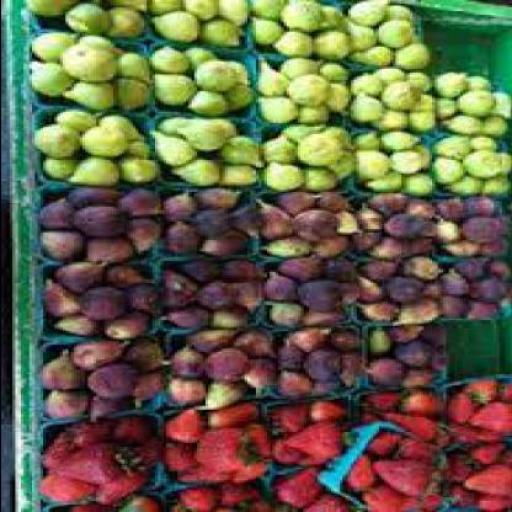biodegradable: (59, 443, 143, 483), (196, 424, 272, 468), (376, 454, 440, 494), (61, 37, 117, 82), (282, 418, 344, 456), (237, 424, 277, 481), (73, 204, 134, 238), (152, 124, 198, 166), (90, 361, 143, 397), (98, 466, 154, 500), (42, 468, 98, 502), (198, 57, 252, 91), (55, 256, 112, 288), (42, 346, 87, 386), (67, 154, 126, 184), (280, 465, 322, 507), (28, 58, 75, 95), (184, 118, 238, 150), (64, 76, 118, 108), (466, 459, 511, 497), (380, 410, 442, 436), (84, 122, 134, 154), (154, 10, 204, 42), (162, 266, 202, 305), (40, 227, 92, 257), (207, 349, 252, 383), (170, 154, 221, 184), (221, 134, 266, 168), (73, 339, 129, 366), (260, 195, 296, 237), (297, 278, 344, 310), (37, 122, 84, 154), (101, 4, 148, 36), (34, 30, 80, 62), (86, 235, 140, 262), (185, 324, 241, 350), (154, 71, 198, 104), (67, 0, 111, 33), (84, 287, 129, 319), (123, 338, 167, 370), (283, 0, 327, 32), (120, 184, 162, 216), (386, 78, 428, 110), (42, 430, 79, 466), (305, 345, 344, 379), (394, 296, 445, 322), (106, 310, 157, 336), (210, 400, 263, 425), (193, 182, 246, 207), (300, 134, 344, 164), (364, 482, 411, 510), (204, 380, 249, 409), (347, 448, 378, 490), (338, 348, 370, 388), (162, 190, 202, 222), (260, 91, 300, 123), (199, 278, 243, 307), (289, 73, 333, 102), (262, 160, 304, 190), (288, 324, 336, 350), (131, 218, 166, 253), (48, 280, 84, 314), (173, 341, 210, 374), (42, 194, 79, 227), (322, 254, 364, 283), (300, 207, 342, 236), (193, 207, 235, 236), (148, 43, 193, 70), (53, 311, 103, 335), (168, 408, 204, 441), (472, 400, 510, 431), (56, 108, 100, 134), (202, 16, 246, 42), (318, 30, 356, 60), (104, 114, 146, 141), (190, 88, 232, 115), (403, 389, 450, 413), (462, 216, 507, 241), (369, 354, 409, 382), (167, 220, 202, 252), (277, 402, 314, 432), (265, 270, 302, 300), (355, 91, 392, 121), (344, 18, 381, 48), (70, 185, 128, 204), (92, 393, 134, 419), (50, 389, 92, 415), (305, 164, 344, 192), (355, 150, 397, 176), (277, 28, 316, 56), (235, 330, 275, 357), (261, 54, 288, 94), (232, 278, 269, 307), (389, 212, 431, 237), (265, 132, 300, 162), (280, 367, 316, 396), (170, 376, 210, 402), (436, 134, 476, 160), (458, 89, 498, 115), (397, 337, 434, 365), (120, 154, 159, 180), (182, 486, 224, 510), (170, 302, 212, 326), (369, 190, 411, 214), (266, 237, 316, 257), (274, 190, 324, 210), (349, 0, 389, 25), (277, 335, 308, 367), (246, 356, 280, 385), (224, 478, 263, 503), (389, 273, 428, 298), (288, 251, 327, 276), (118, 76, 148, 108), (131, 371, 166, 398), (436, 155, 471, 182), (280, 119, 327, 139), (76, 419, 115, 443), (272, 298, 308, 324), (126, 284, 162, 310), (465, 151, 504, 175), (445, 110, 484, 134), (464, 376, 501, 401), (389, 145, 426, 170), (403, 256, 445, 278), (115, 263, 157, 285), (232, 203, 260, 236), (372, 108, 414, 130), (278, 56, 324, 76), (302, 305, 350, 324), (399, 42, 434, 68), (257, 13, 288, 42), (470, 438, 510, 460), (117, 418, 157, 440), (470, 296, 510, 318), (185, 255, 229, 275), (293, 103, 333, 125), (353, 43, 397, 63), (445, 264, 476, 292), (171, 440, 198, 472), (448, 391, 475, 423), (325, 82, 352, 114), (364, 258, 403, 280), (174, 464, 235, 478), (406, 195, 440, 220), (403, 367, 445, 387), (41, 155, 76, 179), (118, 48, 148, 76), (367, 387, 411, 406), (202, 233, 248, 251), (408, 108, 442, 132), (274, 440, 311, 462), (324, 125, 355, 151), (448, 174, 484, 196), (386, 18, 416, 44), (221, 0, 252, 25), (478, 234, 510, 258), (383, 324, 428, 341), (313, 490, 353, 509), (310, 399, 350, 418), (212, 307, 252, 326), (313, 234, 353, 253), (361, 298, 403, 316), (406, 171, 440, 193), (224, 163, 263, 182), (123, 492, 163, 510), (332, 328, 367, 348), (447, 235, 482, 255), (316, 190, 352, 209), (232, 256, 263, 278), (376, 430, 402, 456), (420, 322, 448, 346), (478, 277, 510, 298), (442, 73, 470, 97), (377, 238, 412, 257), (388, 130, 423, 149), (227, 84, 254, 108), (478, 492, 510, 512), (369, 170, 409, 186), (352, 73, 384, 93), (481, 113, 511, 134), (30, 0, 72, 15), (361, 275, 386, 300), (451, 454, 475, 480), (331, 149, 355, 175), (187, 0, 221, 18), (408, 236, 440, 255), (454, 257, 484, 277), (257, 0, 292, 17), (375, 326, 397, 353), (400, 438, 437, 454), (467, 196, 498, 215), (159, 117, 193, 134), (423, 484, 445, 510), (143, 438, 165, 464), (446, 294, 472, 316), (362, 205, 384, 231), (322, 60, 352, 79), (358, 229, 389, 247), (486, 258, 511, 280), (386, 4, 416, 22), (234, 496, 272, 510), (451, 482, 475, 504), (443, 196, 467, 218), (322, 4, 344, 28), (372, 65, 412, 78), (194, 45, 220, 65), (342, 280, 364, 302), (440, 218, 462, 240), (431, 344, 450, 369), (76, 499, 118, 510), (476, 134, 504, 150), (86, 34, 118, 48), (495, 91, 511, 118), (481, 177, 511, 191), (362, 132, 384, 151), (151, 1, 185, 13), (414, 94, 439, 110), (412, 72, 434, 90), (468, 76, 494, 91), (442, 97, 461, 117), (420, 143, 437, 162), (313, 380, 344, 390), (128, 140, 150, 154), (497, 379, 511, 400), (362, 408, 384, 420), (308, 454, 333, 464), (501, 150, 511, 174)
